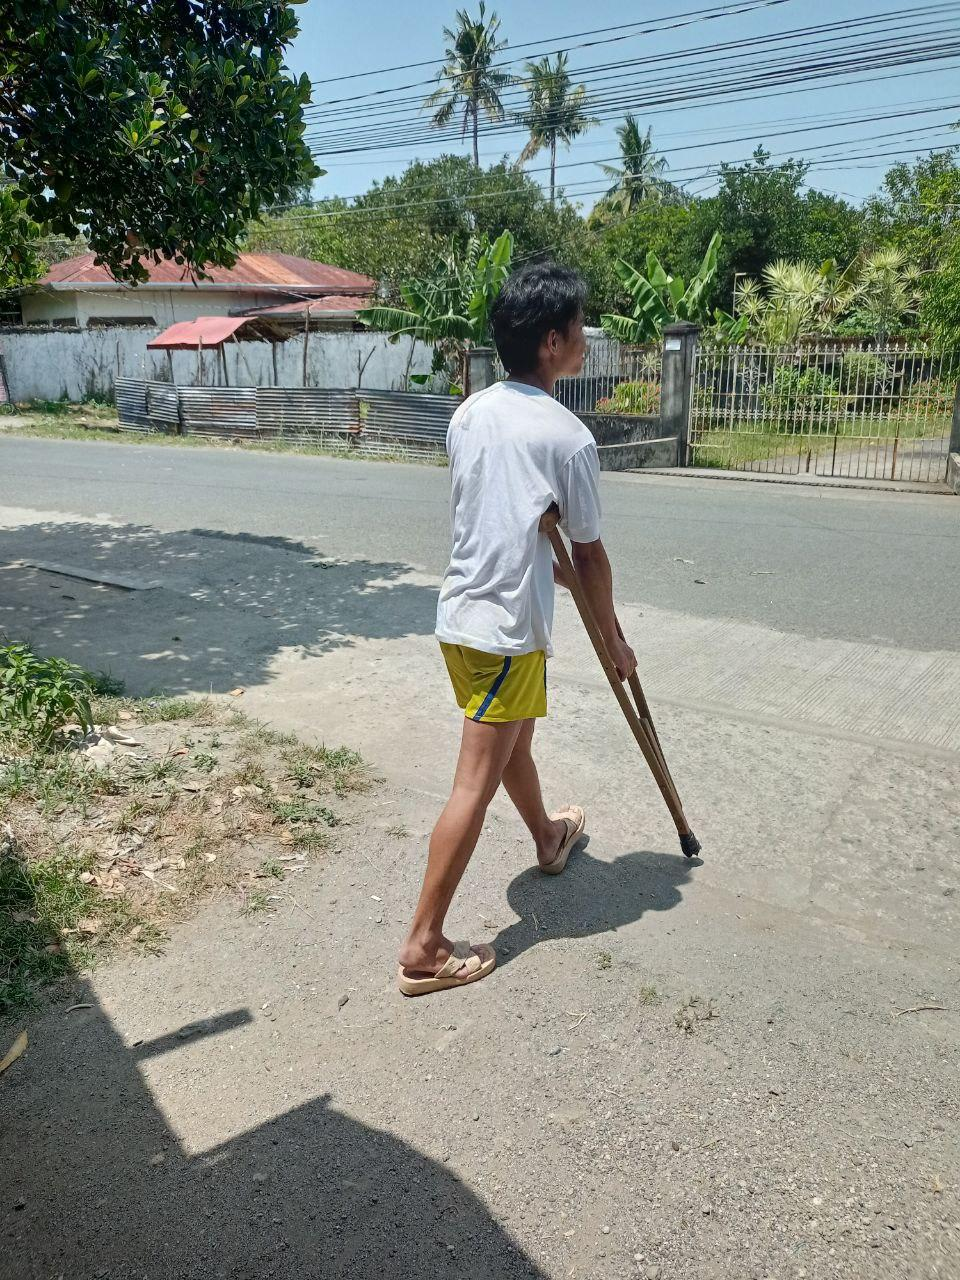crutches: (395, 256, 711, 1001)
